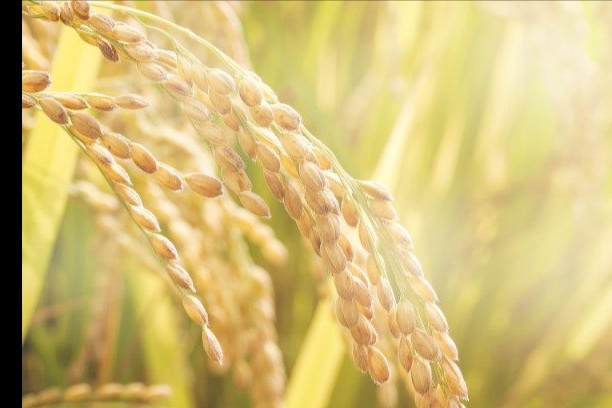rice: (30, 2, 458, 403)
